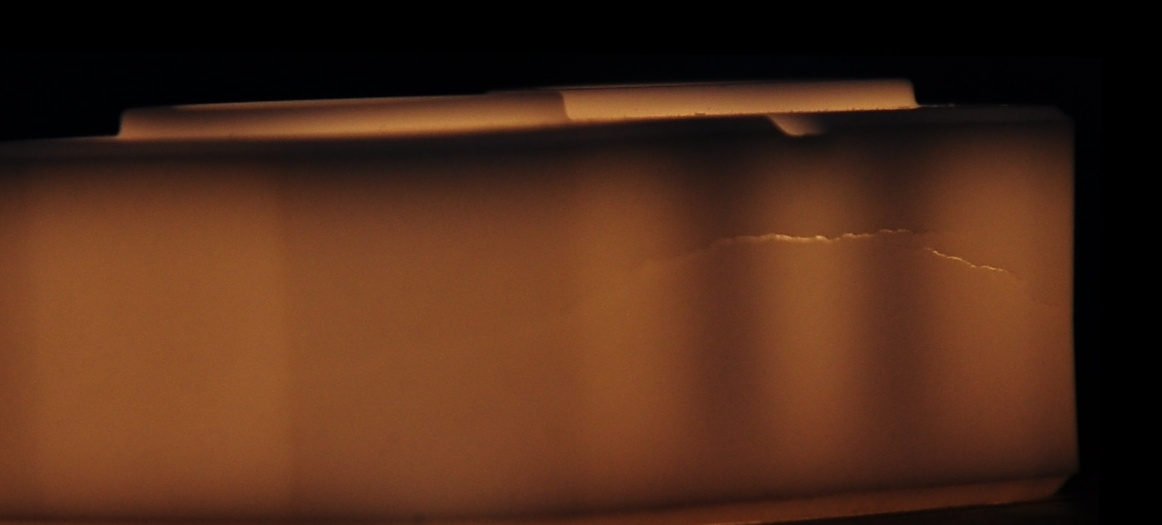flaw: (446, 208, 1046, 315)
